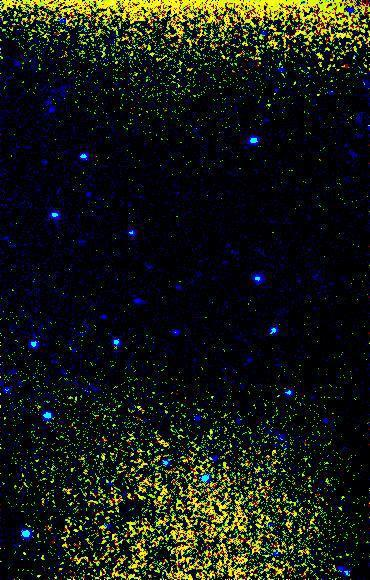star: (257, 439, 287, 469)
